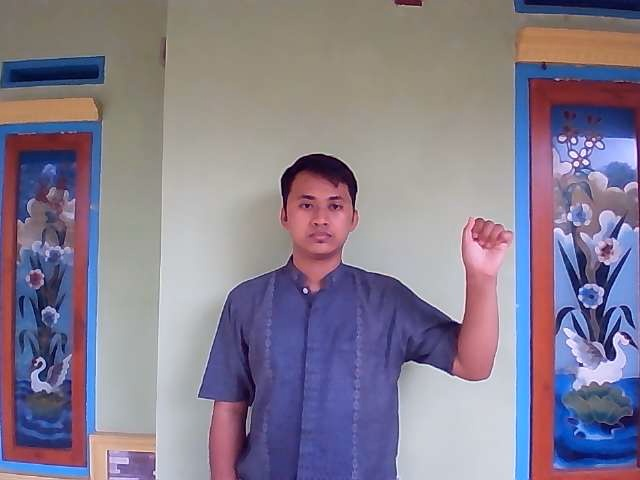A: (455, 211, 515, 292)
